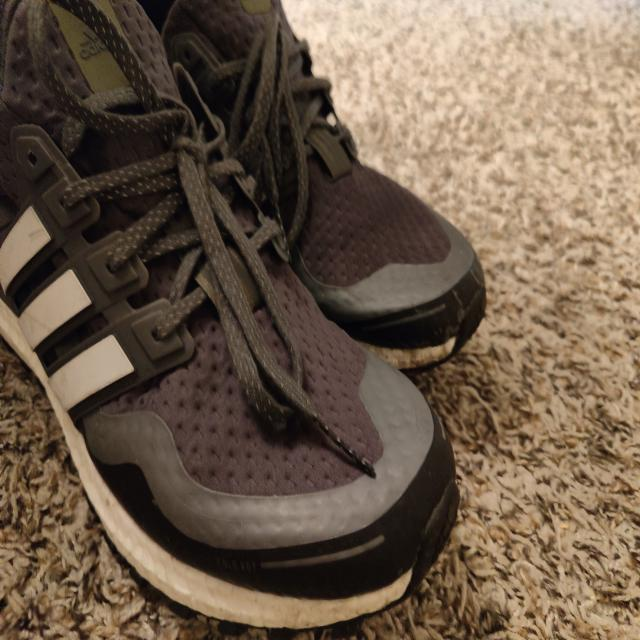black shoes: (14, 4, 376, 582)
